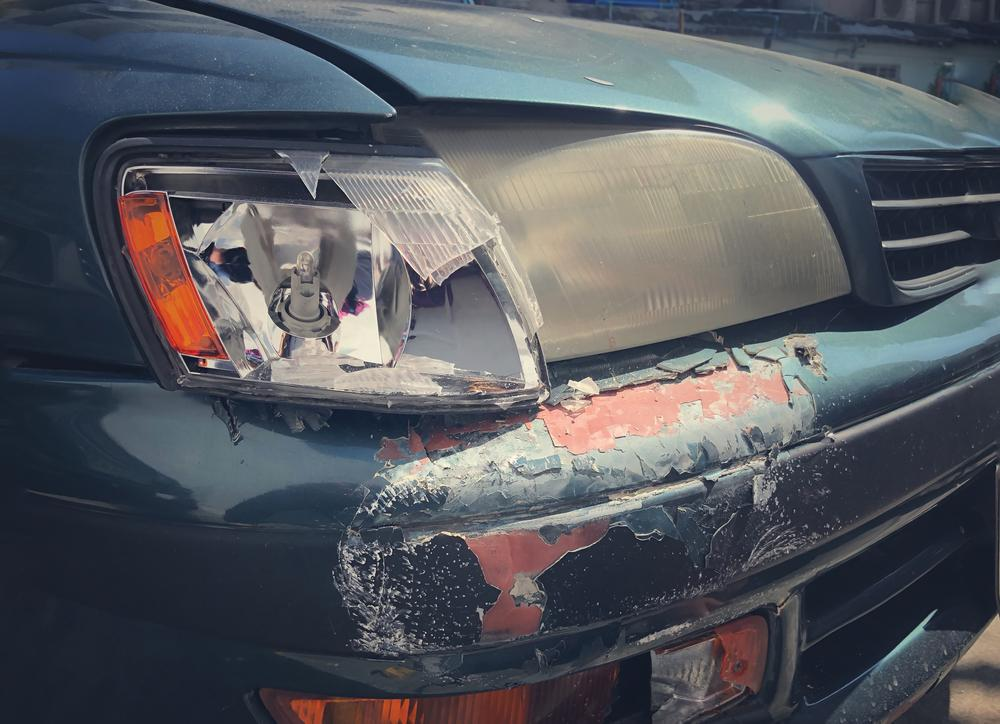lamp broken: (119, 142, 554, 403)
scratch: (332, 343, 852, 684)
